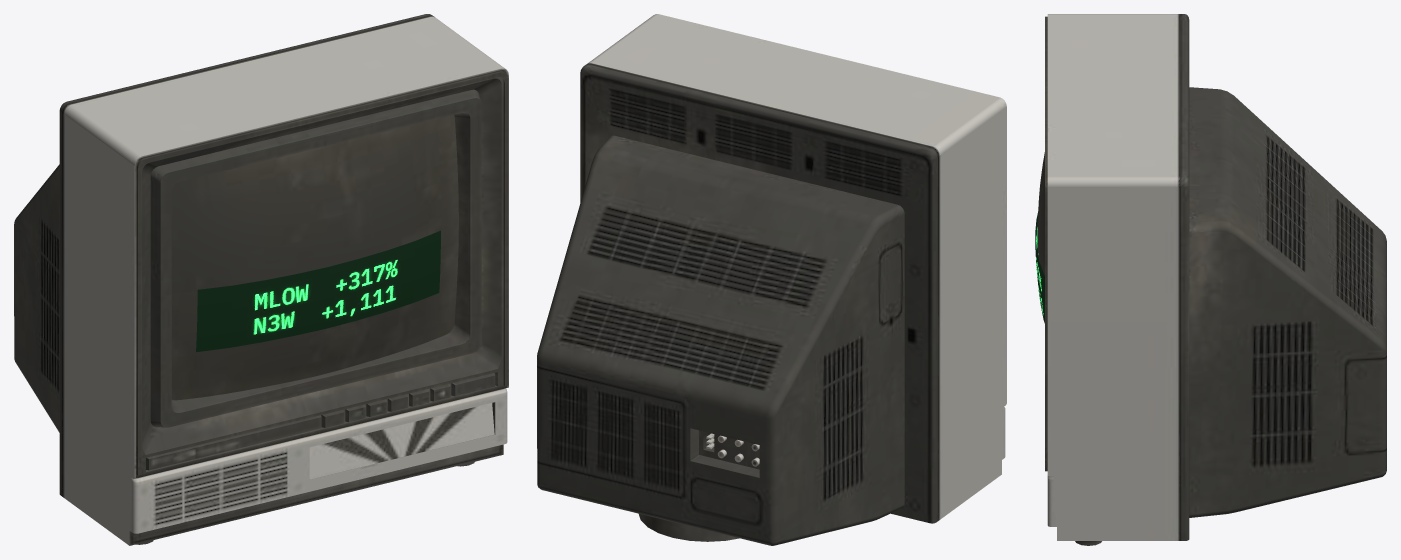
File: nyb_wolf_crt.glb
The picture shows the model from 3 angles, left to right: view 1: azimuth 30°, elevation 25°; view 2: azimuth 150°, elevation 25°; view 3: azimuth 270°, elevation 25°; orthographic projection. The views are drawn at different scales.
Visible parts, largest first — view 1: television_02, stk_lbl_2ed3ed806d.png; view 2: television_02; view 3: television_02, stk_lbl_2ed3ed806d.png.
Boxes of the visible parts, x1,y1,x2,y2 form: television_02: (14,14,508,545); stk_lbl_2ed3ed806d.png: (196,230,440,352); television_02: (537,14,1006,545); television_02: (1037,14,1386,545); stk_lbl_2ed3ed806d.png: (1035,211,1044,323).
Bounding box in the file's own units: 0.3997 × 0.4114 × 0.3527.
Materials: 2 (2 with a texture image).
